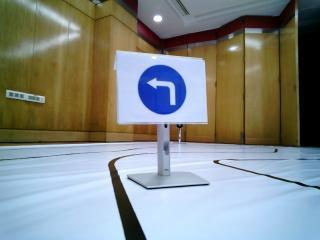left: (122, 54, 202, 125)
